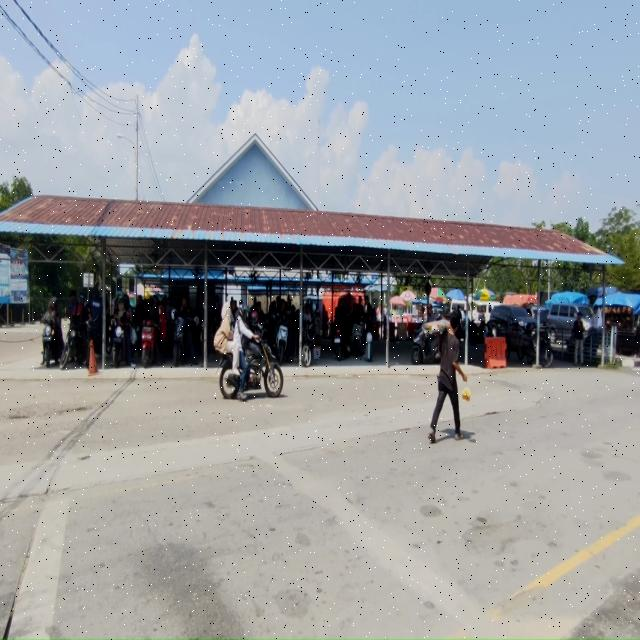Golongan II: (220, 338, 284, 399), (518, 325, 554, 368), (173, 312, 199, 367), (411, 323, 440, 365), (59, 323, 84, 370), (112, 318, 130, 368), (141, 320, 158, 368), (42, 320, 58, 368), (302, 320, 316, 367), (333, 327, 349, 362), (468, 320, 487, 346), (276, 324, 288, 365), (350, 322, 364, 357)
